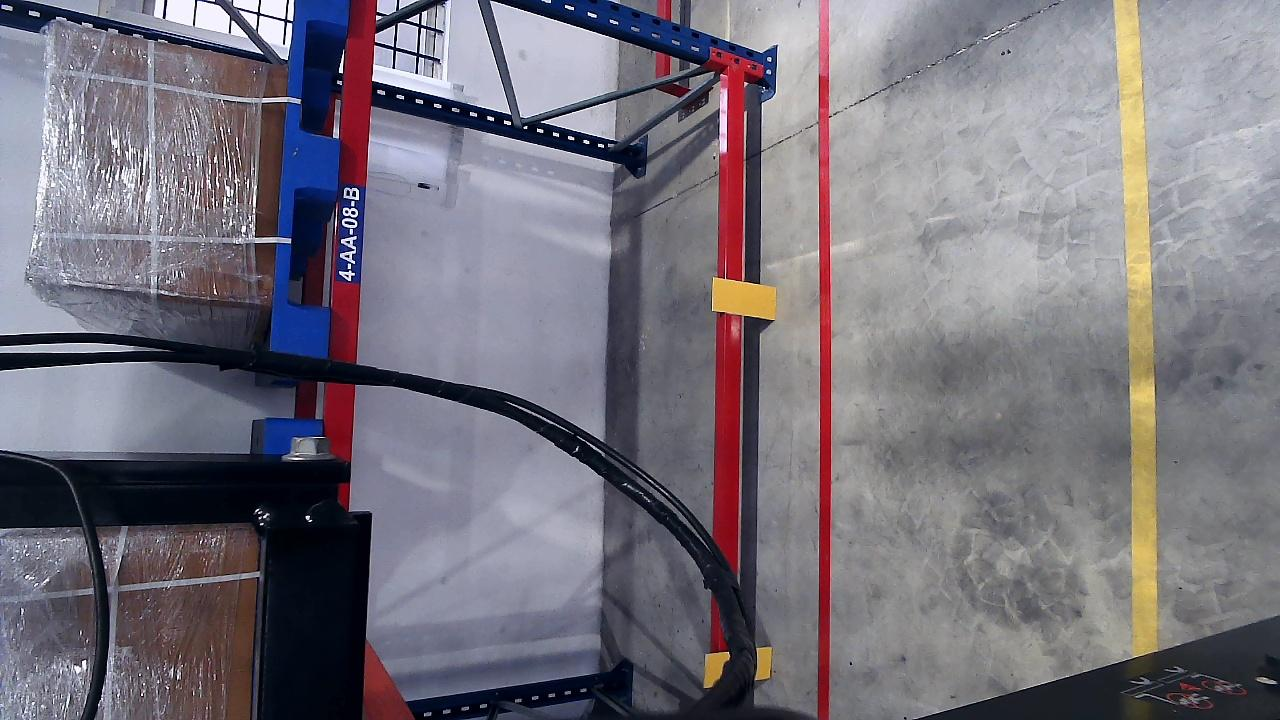h_rack: (324, 0, 381, 434), (717, 70, 751, 693)
orange_strip: (711, 276, 776, 319), (704, 651, 730, 686), (753, 646, 772, 678)
red_line: (813, 7, 836, 719)
small_pallet: (266, 0, 347, 357)
yellow_line: (1114, 0, 1159, 645)
